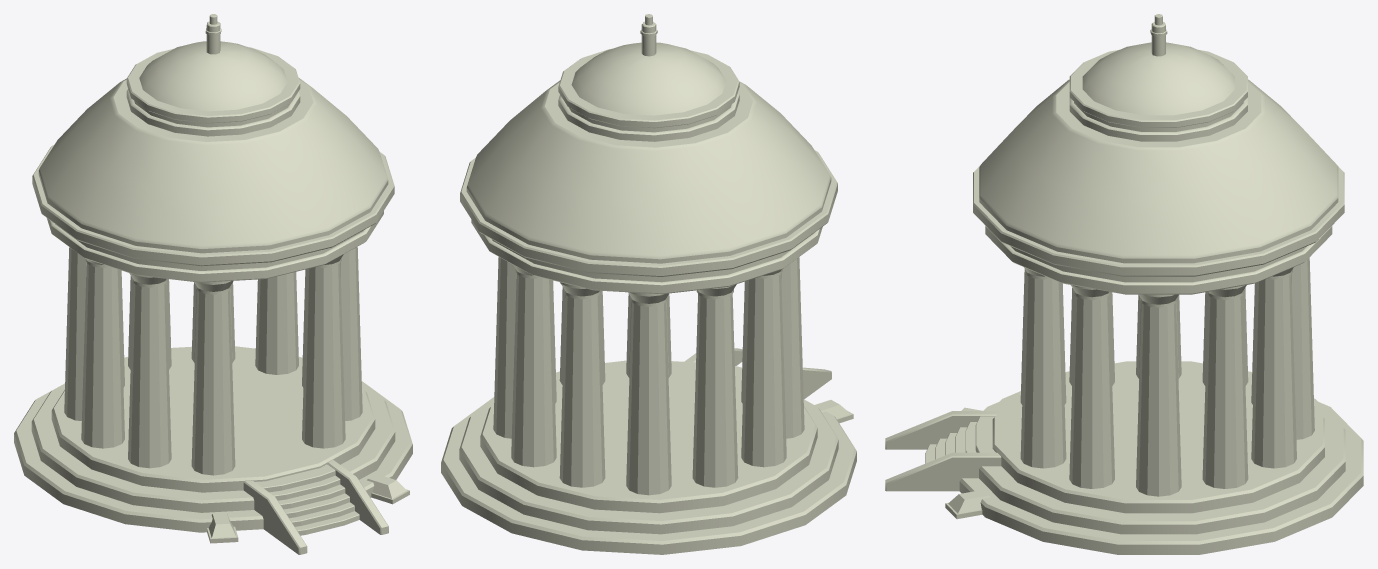
The model's file is TempleOracle.fbx.
3 views of the same model, side by side, from view 1: azimuth 30°, elevation 25°; view 2: azimuth 150°, elevation 25°; view 3: azimuth 270°, elevation 25° (orthographic). The views are drawn at different scales.
Parts seen in each view (by area): view 1: TempleOracle_geo; view 2: TempleOracle_geo; view 3: TempleOracle_geo.
Boxes of the visible parts, left/top/right/bottom form: TempleOracle_geo: left=14, top=14, right=412, bottom=554; TempleOracle_geo: left=441, top=14, right=856, bottom=554; TempleOracle_geo: left=885, top=14, right=1363, bottom=554.
Bounding box in the file's own units: 832 × 1014 × 971.
